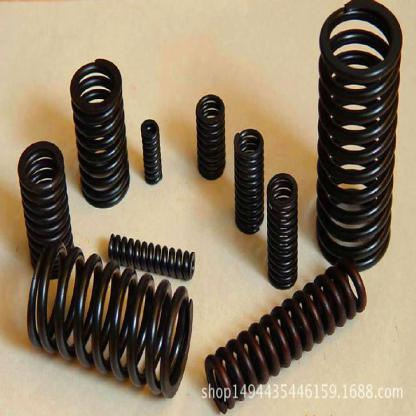FOD: (25, 236, 194, 400), (202, 260, 368, 413), (314, 0, 404, 276), (66, 54, 131, 211), (16, 139, 76, 280), (263, 170, 301, 293), (107, 232, 196, 280), (231, 125, 267, 238), (193, 92, 229, 181), (140, 117, 164, 187)
